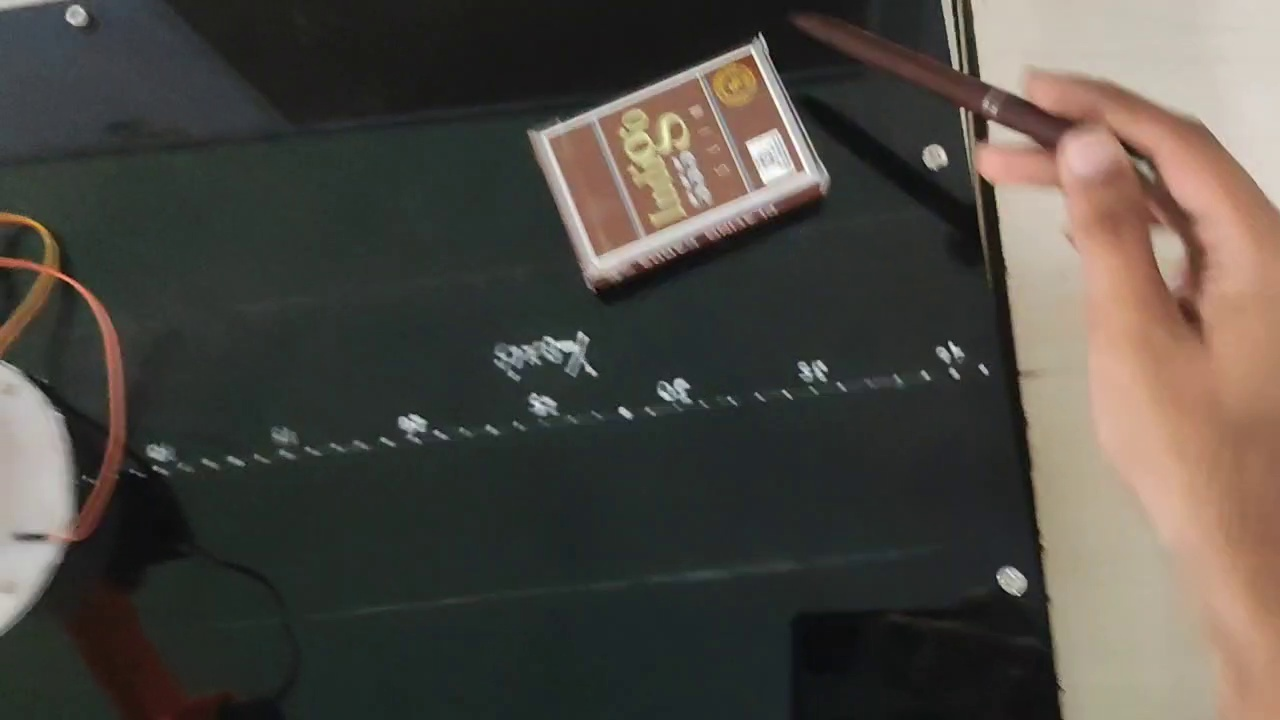BEX: (543, 43, 804, 258)
